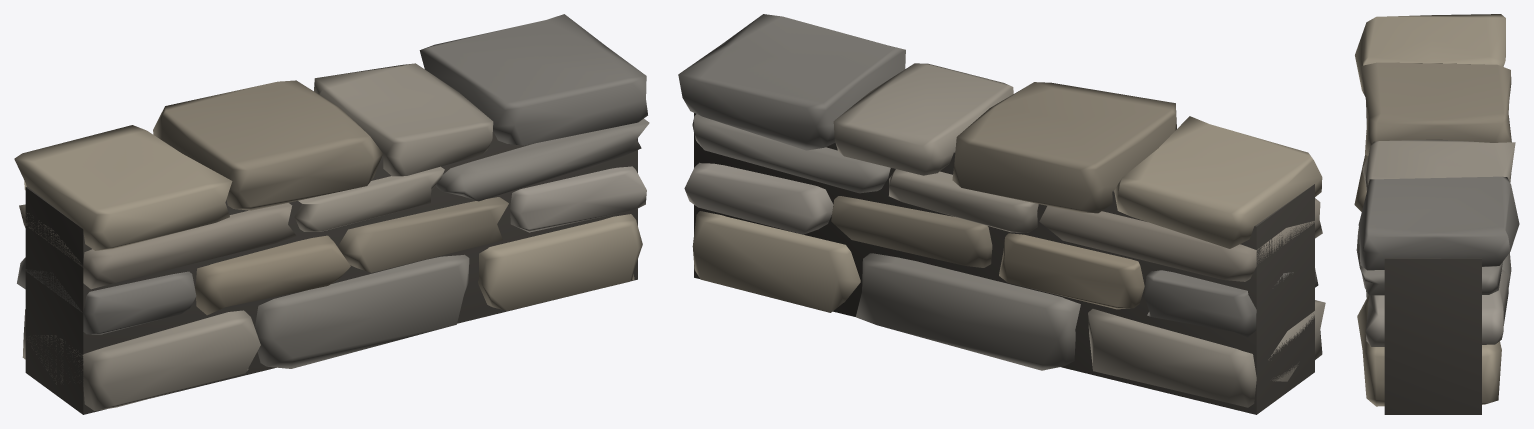
Rendered from furn_od_fence_stone.glb.
3 views of the same model, side by side, from view 1: azimuth 30°, elevation 25°; view 2: azimuth 150°, elevation 25°; view 3: azimuth 270°, elevation 25° (orthographic). The views are drawn at different scales.
Visible parts, largest first — view 1: furn_od_fence_stone_main; view 2: furn_od_fence_stone_main; view 3: furn_od_fence_stone_main.
Part boxes in pixels (x1=…): furn_od_fence_stone_main: x1=14, y1=14, x2=649, y2=414; furn_od_fence_stone_main: x1=678, y1=14, x2=1325, y2=414; furn_od_fence_stone_main: x1=1354, y1=14, x2=1519, y2=414.
Bounding box in the file's own units: 1 × 0.3797 × 0.3063.
